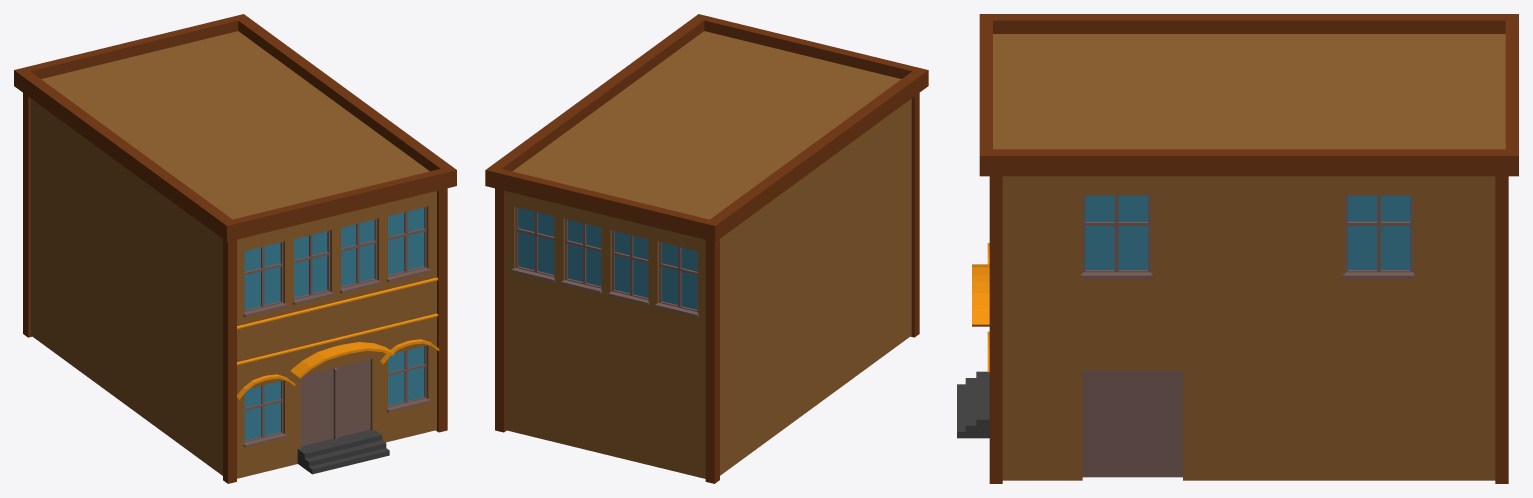
File: CasaFinal.fbx
3 renders of one model, left to right at view 1: azimuth 30°, elevation 25°; view 2: azimuth 150°, elevation 25°; view 3: azimuth 270°, elevation 25°, orthographic. The views are drawn at different scales.
Visible parts, largest first — view 1: Cube_022; view 2: Cube_022; view 3: Cube_022.
Part boxes in pixels (bbox=[...]): Cube_022: bbox=[14, 14, 456, 483]; Cube_022: bbox=[485, 14, 928, 483]; Cube_022: bbox=[957, 14, 1518, 483].
Size of the model in its own units: 556 by 606 by 930.
